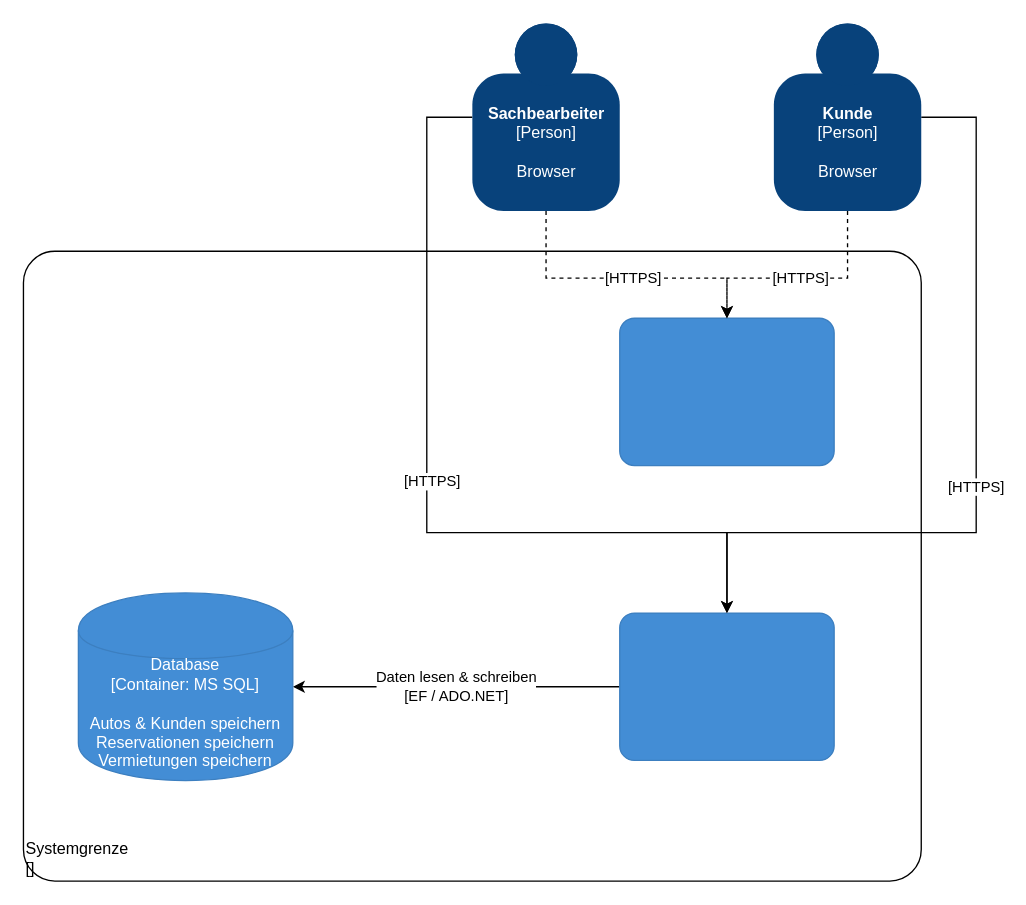
Image size: 1026x905. Some labels were removed from this diagram. Here are the shapes that lost their labels. From the top down, the centre of each, then its label:
point 726,391: Web GUI [Container: WebServer] [optional]
point 726,686: CarRent App [Container: API]
